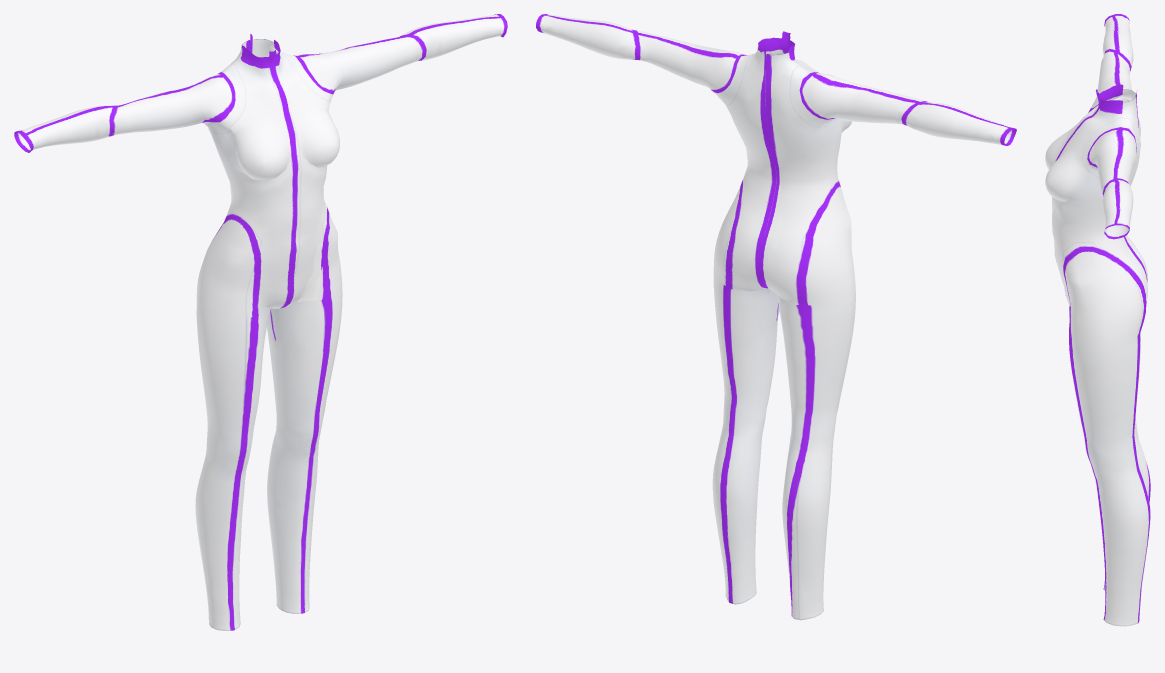
File: chest-assassin.glb
3 renders of one model, left to right at view 1: azimuth 30°, elevation 25°; view 2: azimuth 150°, elevation 25°; view 3: azimuth 270°, elevation 25°, orthographic. The views are drawn at different scales.
Visible parts, largest first — view 1: chest-assassin; view 2: chest-assassin; view 3: chest-assassin.
Part boxes in pixels (bbox=[...]): chest-assassin: bbox=[14, 14, 507, 630]; chest-assassin: bbox=[536, 14, 1016, 620]; chest-assassin: bbox=[1045, 14, 1150, 626].
Size of the model in its own units: 1.19 by 1.46 by 0.2517.
Materials: 1 (1 with a texture image).
